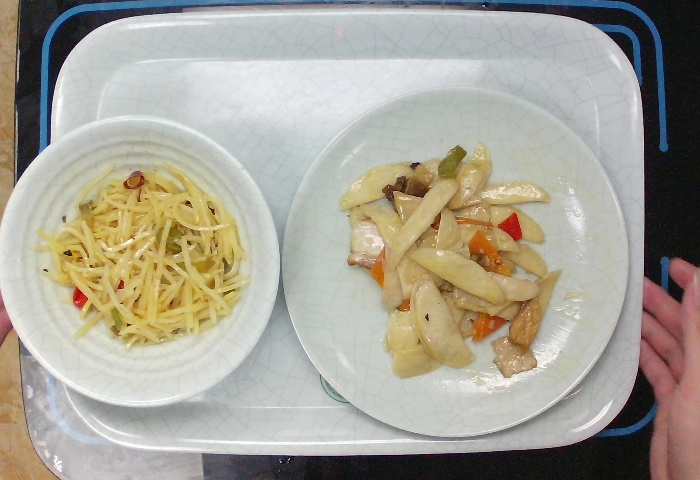JYsf-Da_Yuan_Pan: (284, 78, 635, 440)
JYsf-Xiao_Tang_Wan: (1, 110, 285, 412)
